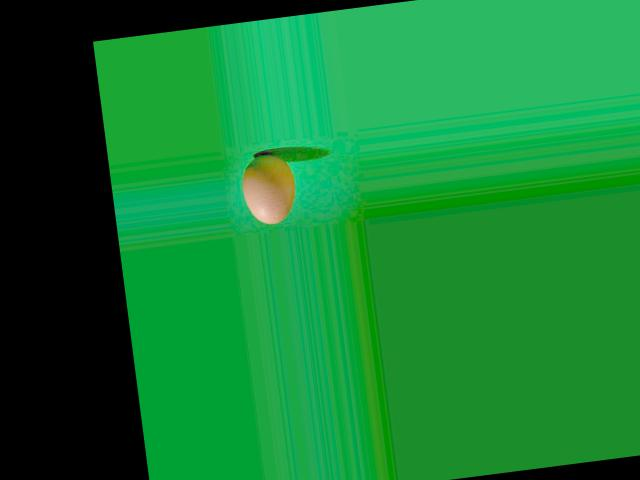egg: (239, 150, 300, 226)
